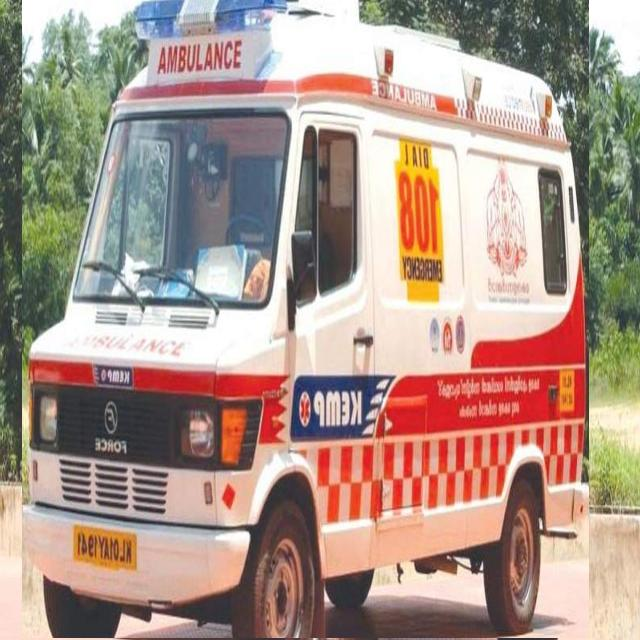emergency: (22, 0, 589, 638)
